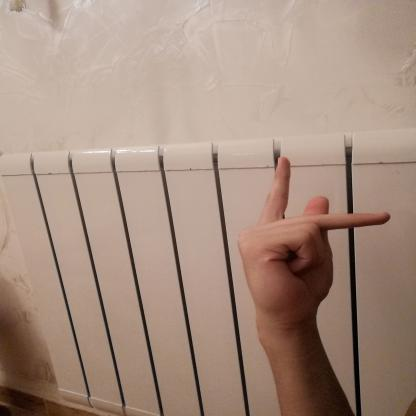DHAA: (227, 150, 403, 331)
